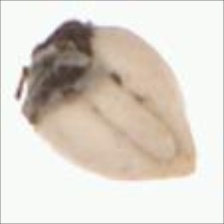L5: (14, 16, 101, 128), (90, 67, 181, 165), (159, 138, 207, 188)
L6: (14, 16, 205, 187)
